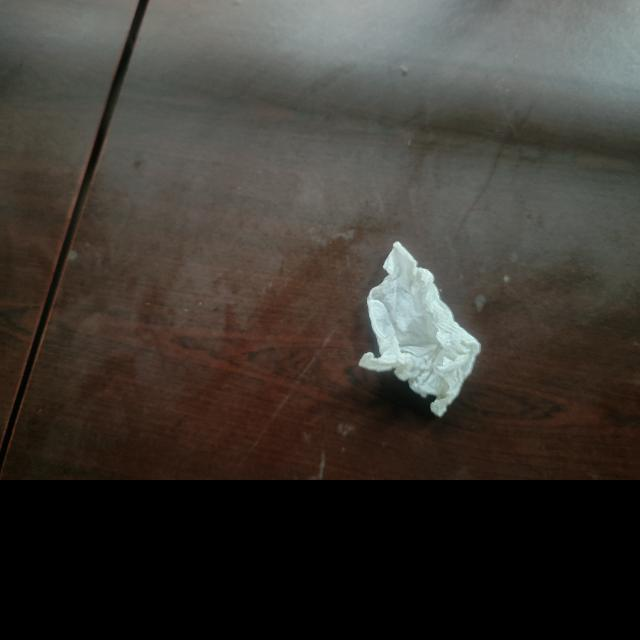kitchen paper: (354, 236, 490, 429)
